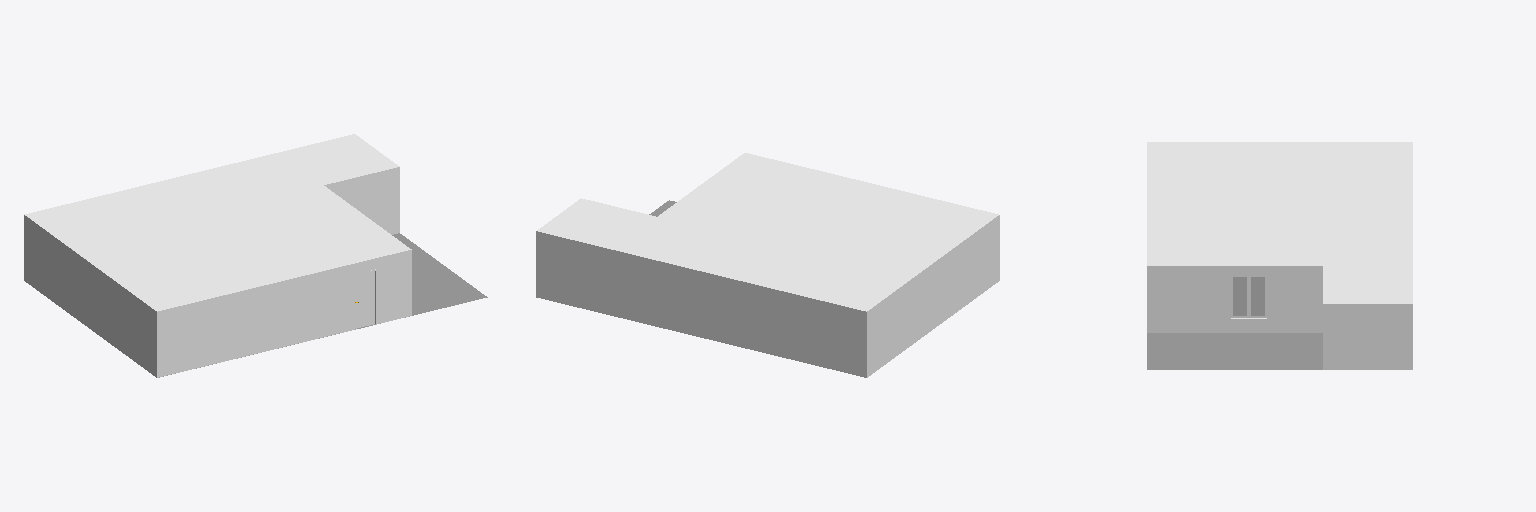
The model's file is houseProject.obj.
The picture shows the model from 3 angles: view 1: azimuth 30°, elevation 25°; view 2: azimuth 150°, elevation 25°; view 3: azimuth 270°, elevation 25°; orthographic projection.
Visible parts, largest first — view 1: room_14_81, wall_13_77, room_15_83, wall_6_35, wall_1_5, wall_12_71, ground_1, wall_8_47, sweethome3d_opening_on_hinge_1_door_410; view 2: room_14_81, wall_10_59, room_15_83, wall_1_5, wall_12_71; view 3: room_14_81, wall_7_41, room_15_83, ground_1, wall_9_53, sweethome3d_window_pane_on_hinge_1_116, sweethome3d_window_pane_on_hinge_2_121.
Part boxes in pixels (x1,y1,x2,y2): room_14_81: (28, 135, 407, 272); wall_13_77: (157, 275, 308, 377); room_15_83: (100, 211, 306, 309); wall_6_35: (308, 250, 411, 340); wall_1_5: (25, 216, 97, 334); wall_12_71: (98, 269, 156, 377); ground_1: (159, 233, 487, 377); wall_8_47: (324, 167, 399, 234); sweethome3d_opening_on_hinge_1_door_410: (355, 271, 374, 328); room_14_81: (540, 154, 936, 309); wall_10_59: (536, 231, 866, 377); room_15_83: (761, 179, 995, 256); wall_1_5: (867, 258, 940, 377); wall_12_71: (941, 215, 999, 323); room_14_81: (1150, 143, 1410, 302); wall_7_41: (1147, 266, 1322, 332); room_15_83: (1150, 143, 1322, 216); ground_1: (1147, 333, 1322, 369); wall_9_53: (1323, 304, 1412, 369); sweethome3d_window_pane_on_hinge_1_116: (1251, 277, 1264, 315); sweethome3d_window_pane_on_hinge_2_121: (1233, 277, 1246, 315).
Size of the model in its own units: 1306 by 250 by 909.